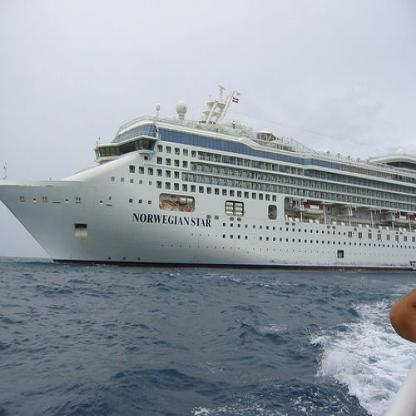boat: (1, 84, 415, 272)
